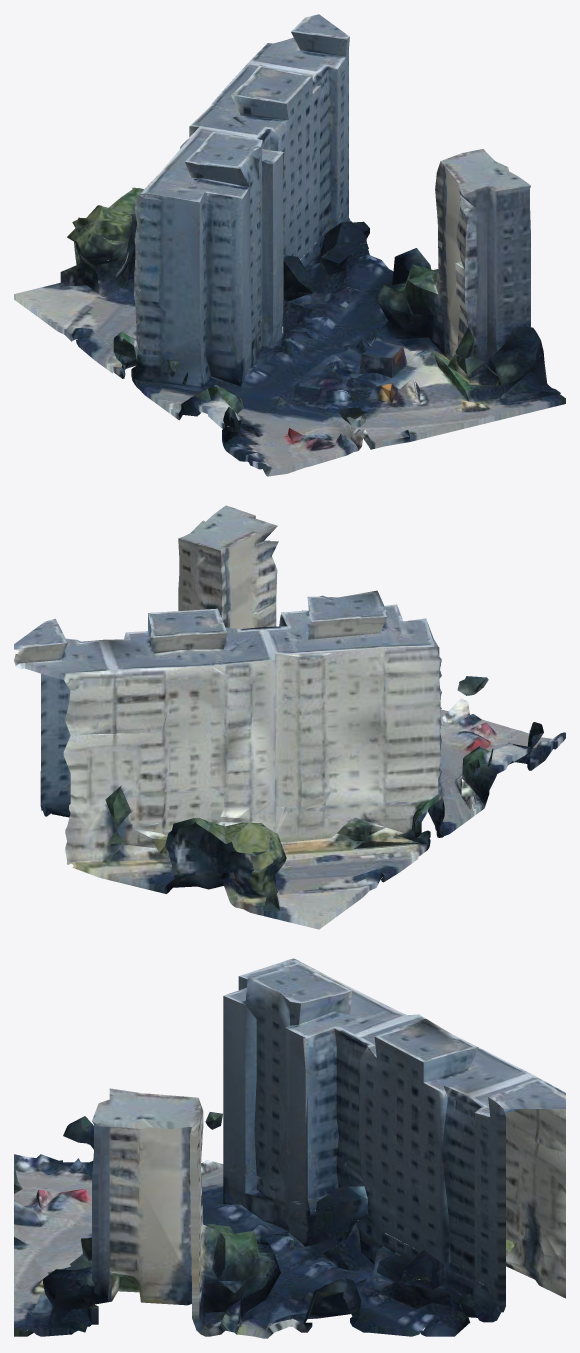
3 views of the same model, one above another, from view 1: azimuth 30°, elevation 25°; view 2: azimuth 150°, elevation 25°; view 3: azimuth 270°, elevation 25° (orthographic). The views are drawn at different scales.
Parts seen in each view (by area): view 1: 3043627270436171763_0; view 2: 3043627270436171763_0; view 3: 3043627270436171763_0.
Part boxes in pixels (x1,y1,x2,y2): 3043627270436171763_0: [14, 14, 565, 476]; 3043627270436171763_0: [14, 505, 565, 929]; 3043627270436171763_0: [14, 958, 565, 1338].
Size of the model in its own units: 54.63 by 36.98 by 76.52.
Materials: 1 (1 with a texture image).
